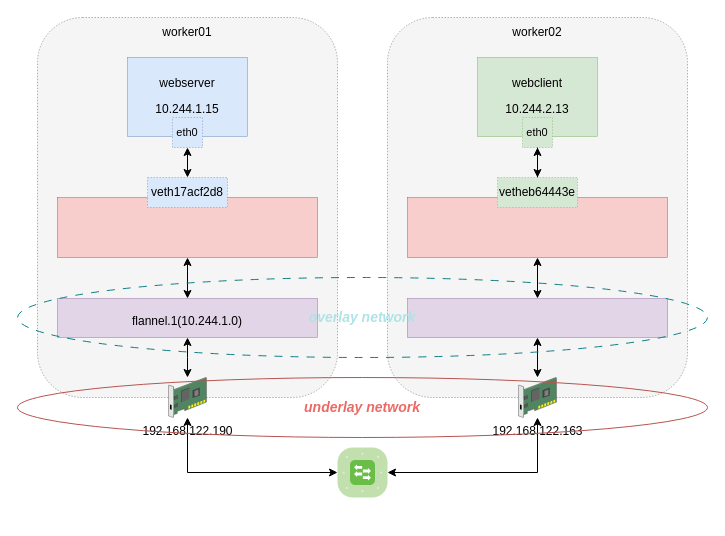
Image size: 725x536. Some labels were removed from this diagram. The centre of each missing label's shape, as x and y in pixels:
"cni0(10.244.1.1)" goes at point (187, 227).
"cni0(10.244.2.1)" goes at point (537, 227).
"flannel.1(10.244.2.0)" goes at point (537, 317).
"switch" goes at point (362, 472).
